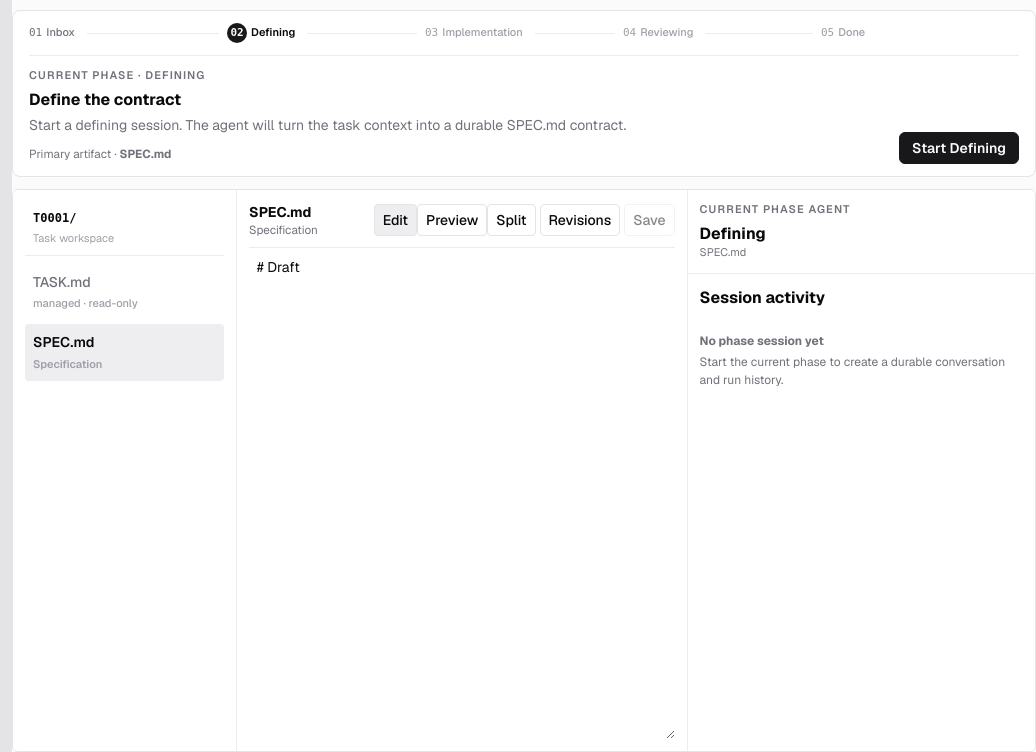
it: document hints refresh changed metadata without replacing a dirty draft
(page scrolled)
Replace the text in the text box named "Markdown document" with "dirty" at (462, 494), box [249,248,674,739]
(page scrolled)
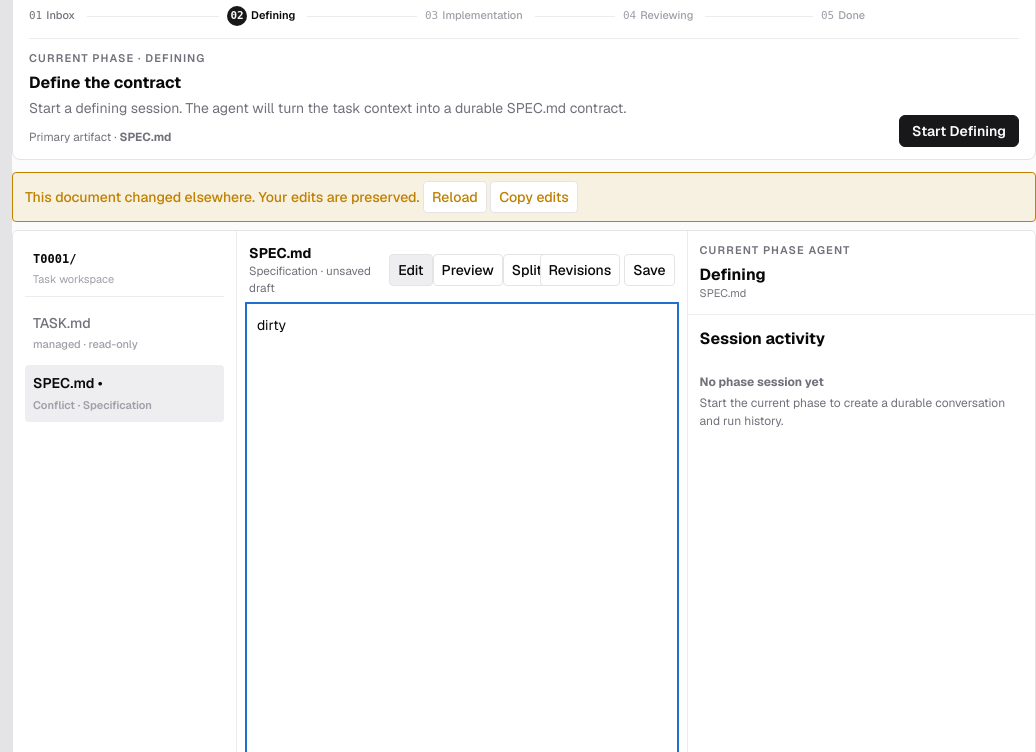
Expected: the text "This document changed elsewhere. Your edits are preserved. Reload Copy edits" is shown, [12,172,1035,222]
